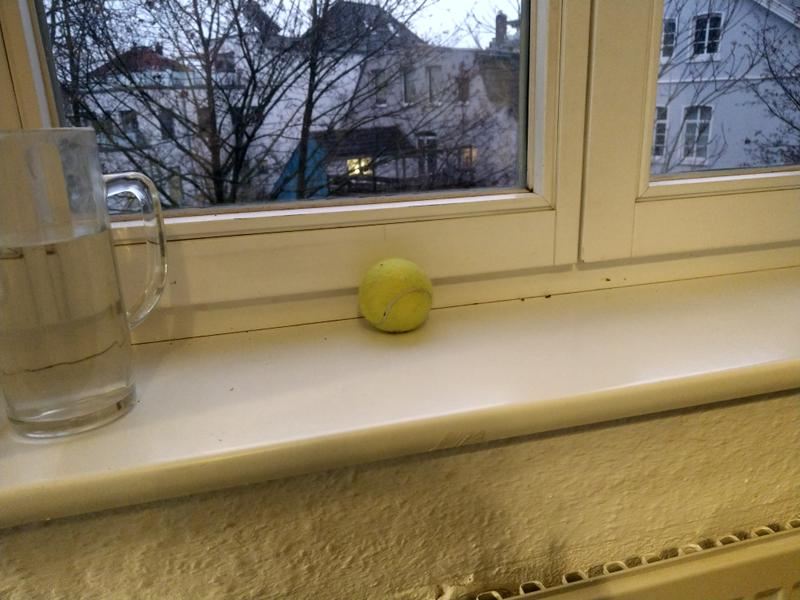Tennisball: (353, 253, 434, 335)
